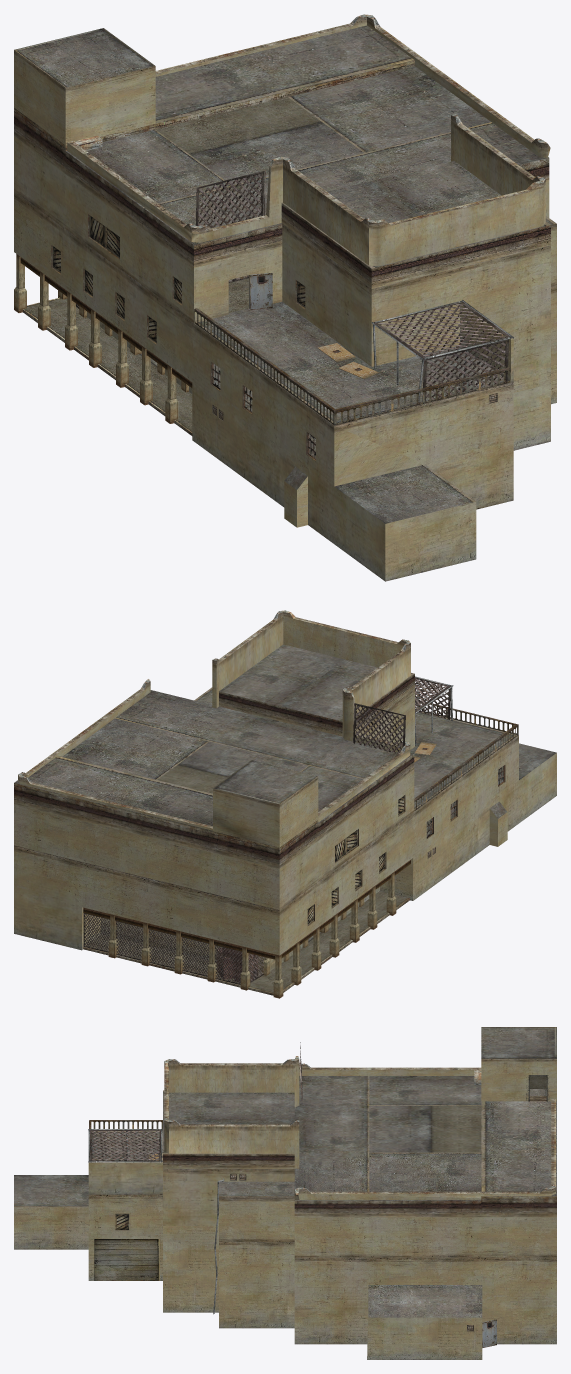
Rendered from mctarget.glb.
3 views of the same model, one above another, from view 1: azimuth 30°, elevation 25°; view 2: azimuth 150°, elevation 25°; view 3: azimuth 270°, elevation 25° (orthographic). The views are drawn at different scales.
Parts seen in each view (by area): view 1: _mctarget; view 2: _mctarget; view 3: _mctarget.
Boxes of the visible parts, bbox=[...] form: _mctarget: bbox=[14, 14, 556, 581]; _mctarget: bbox=[14, 610, 556, 998]; _mctarget: bbox=[14, 1027, 556, 1359].
Bounding box in the file's own units: 37.25 × 22.62 × 58.25.
6 materials, 6 textured.
